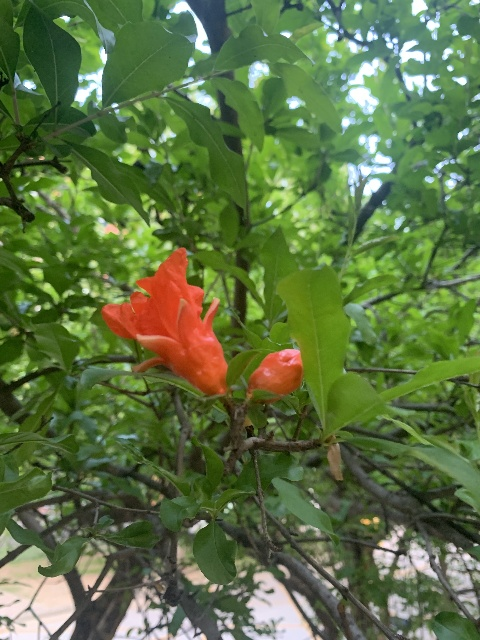bud: (247, 348, 303, 403)
flower: (100, 246, 228, 395)
